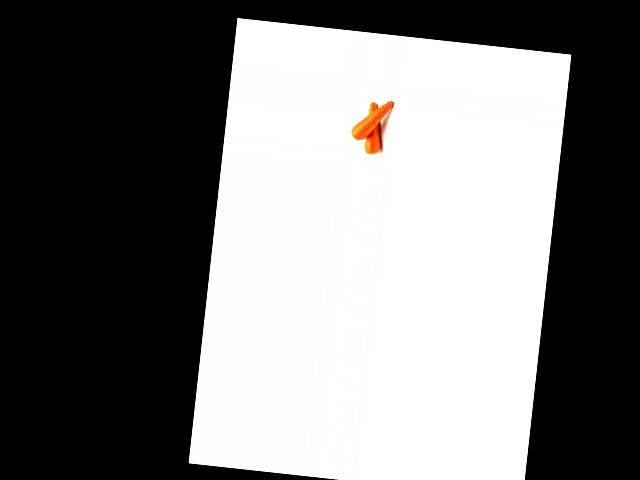carrot: (361, 95, 388, 159)
